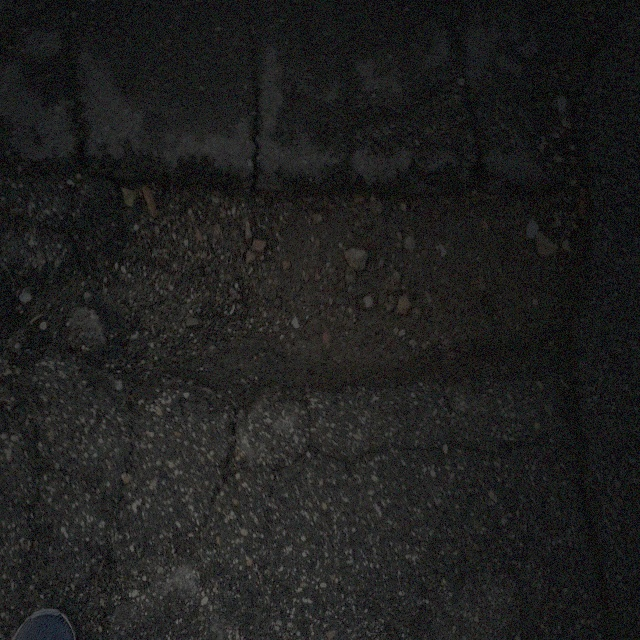pothole: (53, 128, 599, 404)
